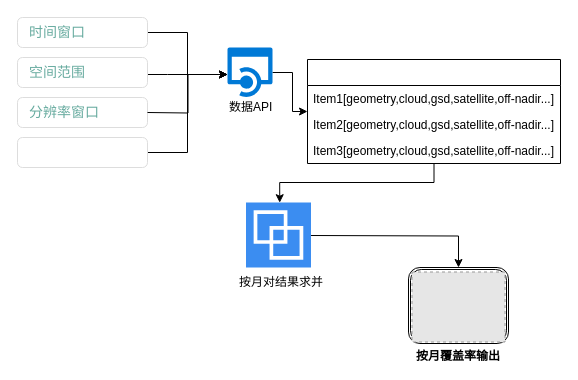
This 578x380 diagram has some shape labels left out. Grey dashed boxes stand in for pictures. The box of each missing label's shape, as (x1, y1, x2, y2) in pixels:
最高云量: (16, 136, 148, 168)
结果列表: (306, 58, 560, 164)
